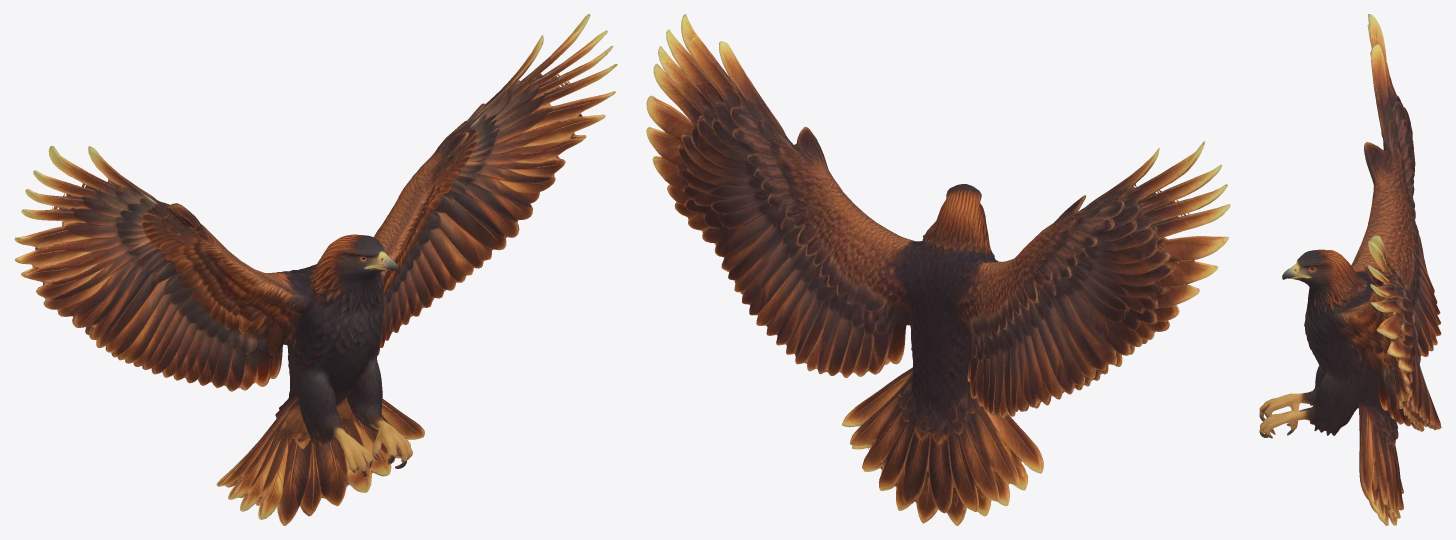
File: phoenix-eagle.glb
3 renders of one model, left to right at view 1: azimuth 30°, elevation 25°; view 2: azimuth 150°, elevation 25°; view 3: azimuth 270°, elevation 25°, orthographic. The views are drawn at different scales.
Parts seen in each view (by area): view 1: Mesh_0; view 2: Mesh_0; view 3: Mesh_0.
Part boxes in pixels (left/top/right/bottom): Mesh_0: left=14, top=14, right=617, bottom=525; Mesh_0: left=646, top=14, right=1230, bottom=525; Mesh_0: left=1259, top=14, right=1441, bottom=525.
Bounding box in the file's own units: 1.91 × 1.37 × 0.5803.
Materials: 1 (1 with a texture image).
